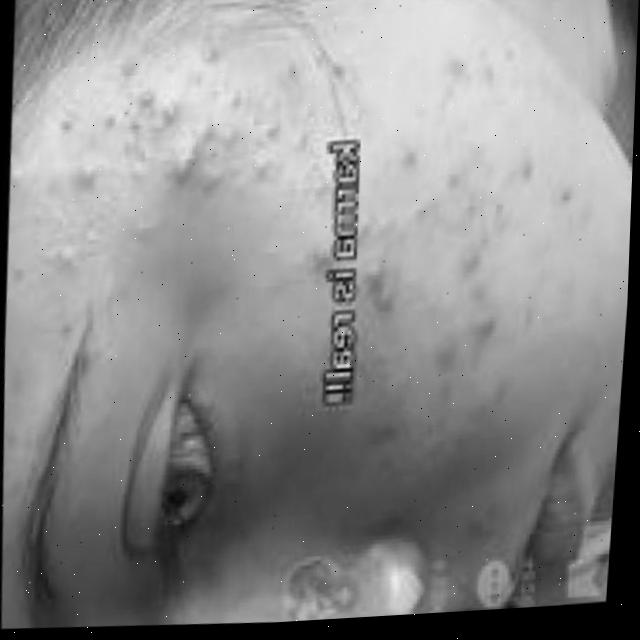Acne: (372, 38, 591, 414), (38, 16, 327, 251)
